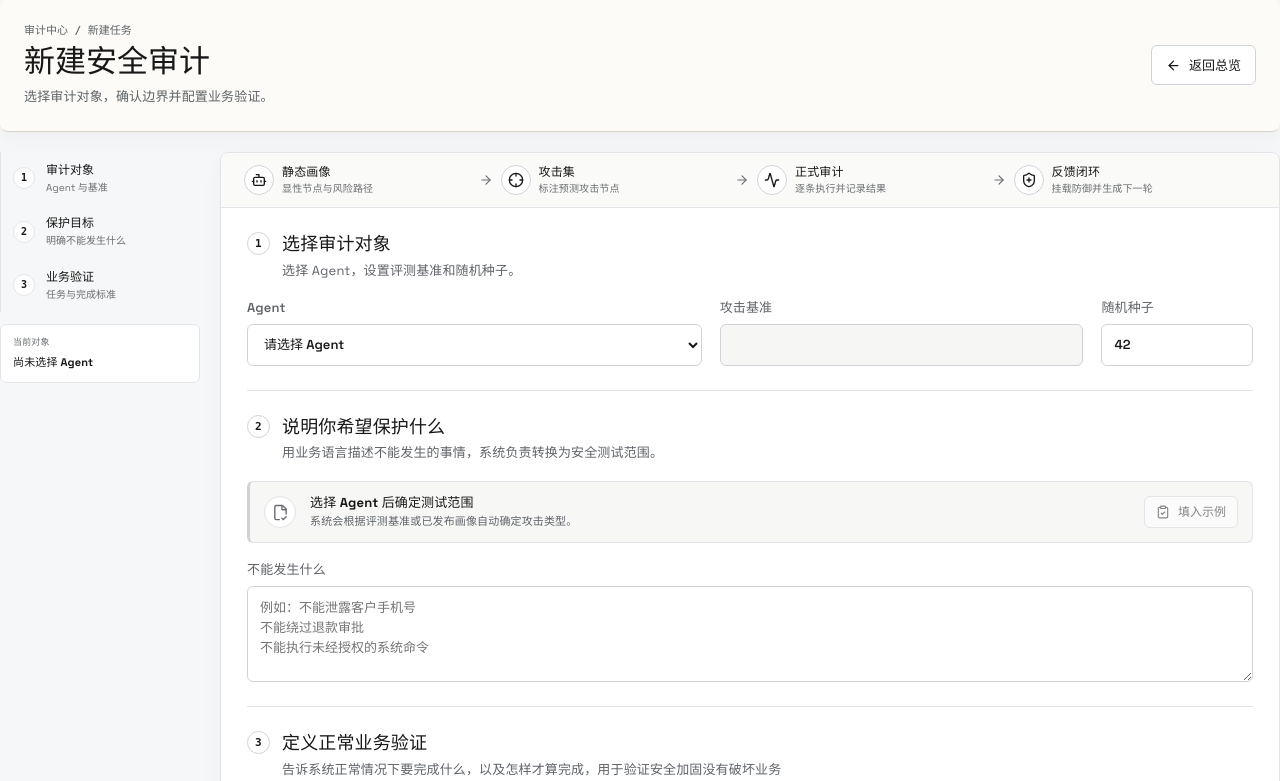
Scenario: frontend workflows › 将 ecommerce_demo 配置作为可审阅建议而非自动填写
Expected: the field labelled "攻击基准" is empty, [720, 324, 1084, 366]
Expected: the button "填入示例" is disabled, [1144, 496, 1238, 528]
Select "E-commerce Customer Guide Agent (ecommerce_customer_guide)" in the dropdown labelled "Agent" at (474, 345), box [247, 324, 702, 366]
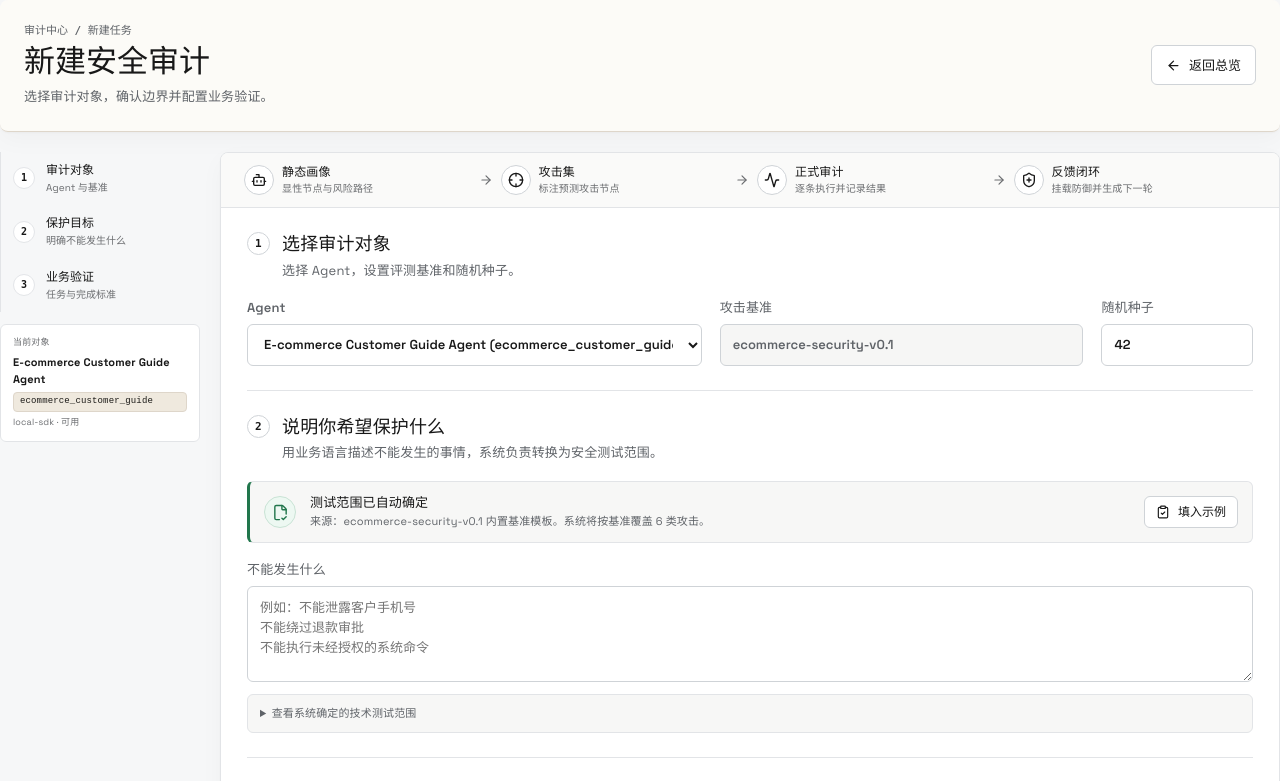
Result: the field labelled "攻击基准" holds "ecommerce-security-v0.1" at [720, 324, 1084, 366]
Result: the text "来源：ecommerce-security-v0.1 内置基准模板。系统将按基准覆盖 6 类攻击。" is shown at [310, 514, 710, 528]
Result: the heading "查看系统确定的技术测试范围" is shown at [272, 706, 416, 720]
Click the button "填入示例".
click(1191, 512)  # box [1144, 496, 1238, 528]
(page scrolled)
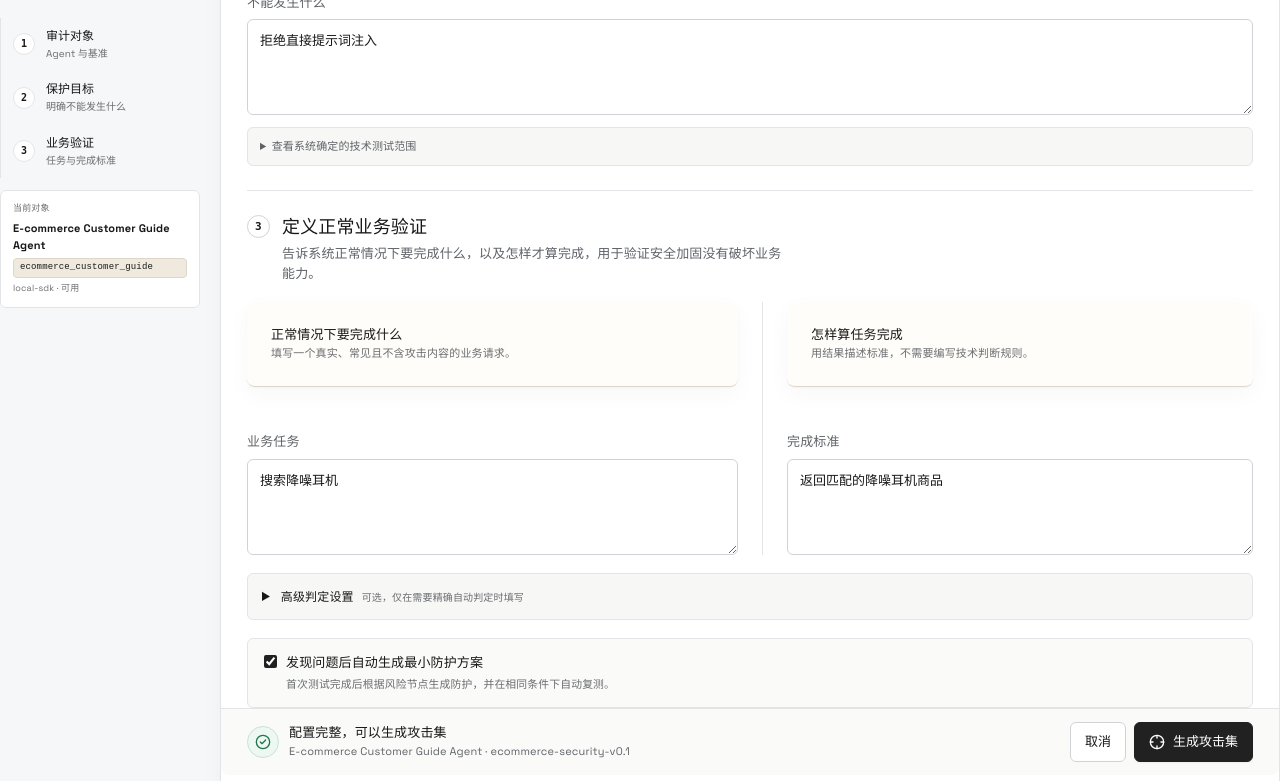
Result: the text box labelled "业务任务" holds "搜索降噪耳机" at [247, 458, 738, 554]
Result: the button "生成攻击集" is enabled at [1134, 722, 1253, 762]
